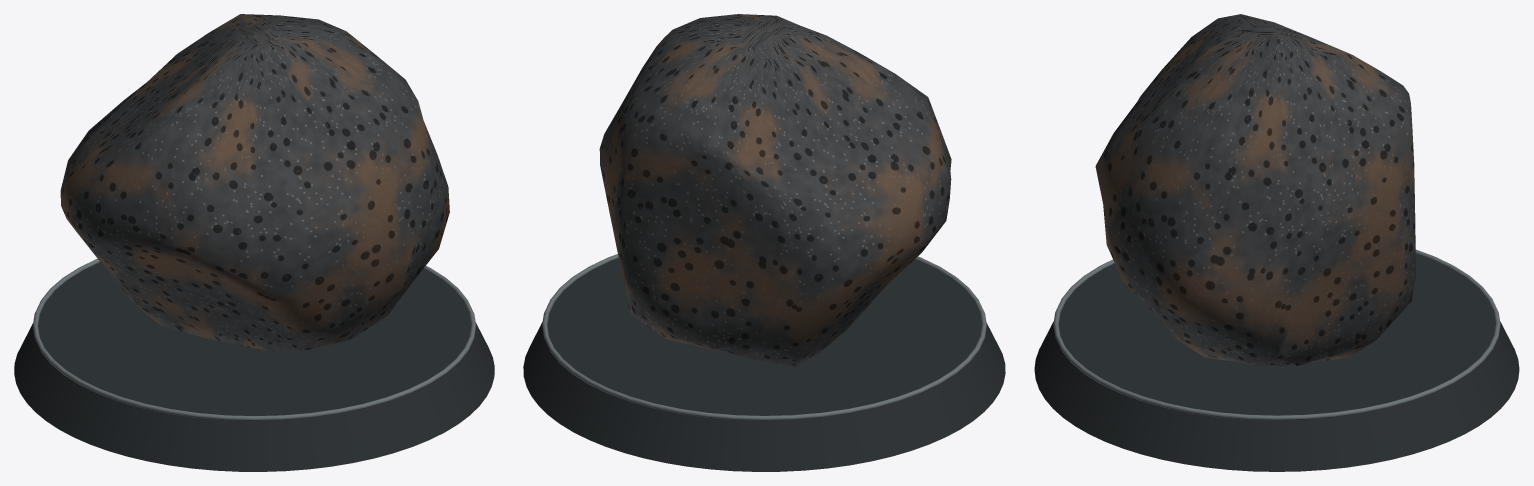
3 views of the same model, side by side, from view 1: azimuth 30°, elevation 25°; view 2: azimuth 150°, elevation 25°; view 3: azimuth 270°, elevation 25° (orthographic).
Visible parts, largest first — view 1: surface specimen, neutral specimen stand, specimen edge; view 2: surface specimen, neutral specimen stand, specimen edge; view 3: surface specimen, neutral specimen stand, specimen edge.
Part boxes in pixels (x1,y1,x2,y2): surface specimen: (60,14,449,351); neutral specimen stand: (14,262,494,471); specimen edge: (32,258,476,420); surface specimen: (599,14,951,367); neutral specimen stand: (523,258,1005,471); specimen edge: (542,254,986,420); surface specimen: (1095,14,1415,365); neutral specimen stand: (1034,254,1519,471); specimen edge: (1053,249,1500,420).
Bounding box in the file's own units: 0.54 × 0.42 × 0.54.
Materials: 3 (1 with a texture image).
